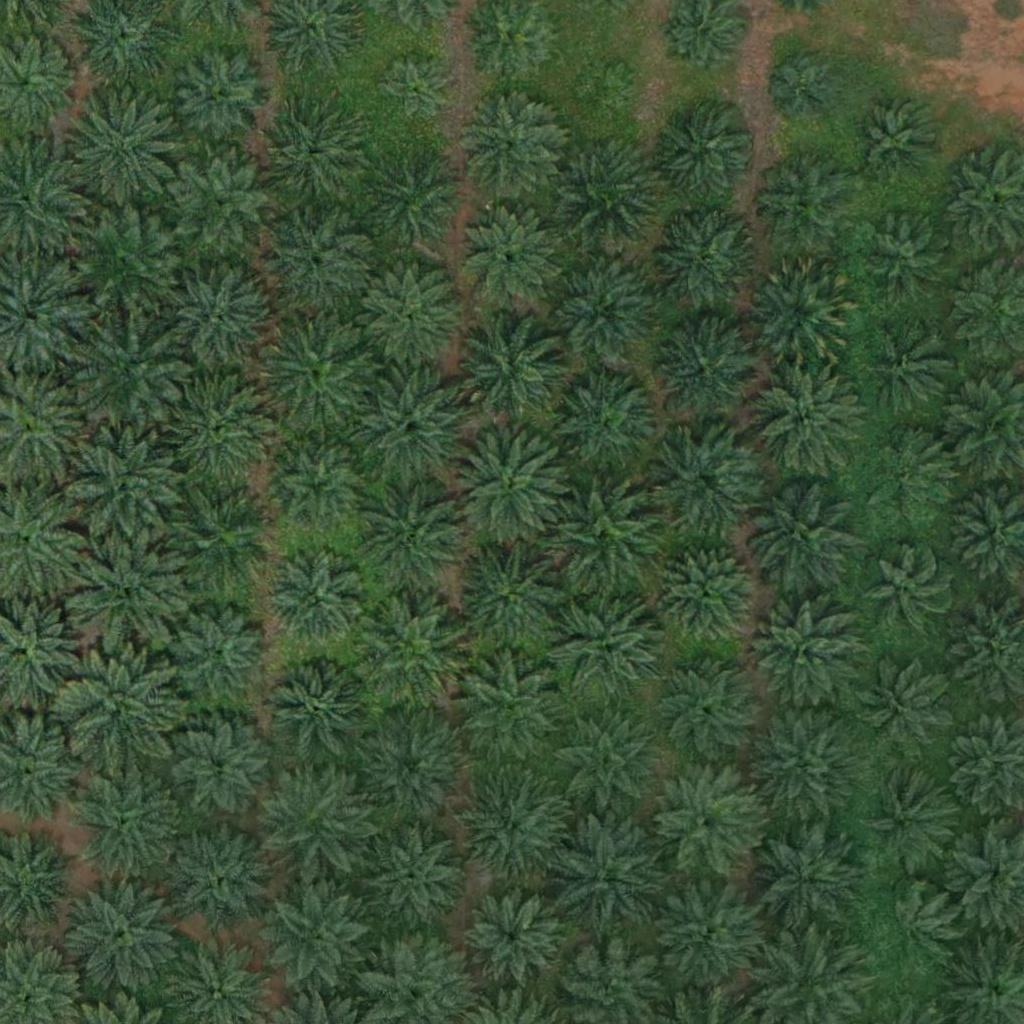Kelapa_Sawit: (65, 201, 178, 315), (72, 311, 185, 425), (357, 477, 470, 591), (455, 653, 568, 767), (650, 879, 763, 993), (548, 708, 661, 822), (550, 818, 663, 932), (458, 773, 571, 887), (744, 257, 857, 370), (647, 98, 760, 211), (67, 431, 180, 544), (69, 537, 182, 650), (63, 652, 176, 765), (261, 310, 374, 423), (358, 370, 471, 483), (452, 431, 565, 544), (454, 540, 567, 653), (748, 361, 861, 474), (743, 478, 856, 591), (747, 600, 860, 713), (262, 883, 375, 996), (160, 262, 272, 376), (168, 370, 280, 484), (358, 602, 470, 716), (648, 206, 760, 319), (549, 135, 661, 248), (547, 257, 659, 370), (259, 207, 371, 320), (67, 87, 179, 200), (165, 485, 277, 598), (354, 711, 466, 824), (455, 311, 567, 424), (545, 364, 657, 477), (544, 480, 656, 593), (552, 594, 664, 707), (647, 427, 759, 540), (651, 651, 763, 764), (750, 708, 862, 821), (749, 823, 861, 936), (649, 766, 761, 879), (257, 765, 369, 878), (69, 769, 181, 882), (66, 880, 178, 993), (752, 154, 852, 255), (457, 93, 557, 194), (457, 204, 557, 305), (364, 149, 464, 250), (362, 265, 462, 366), (259, 105, 359, 206), (172, 49, 272, 150), (172, 152, 272, 253), (169, 602, 269, 703), (171, 721, 271, 822), (271, 663, 371, 764), (653, 319, 753, 420), (656, 542, 756, 643), (859, 769, 959, 870), (463, 887, 563, 988), (365, 828, 465, 929), (171, 825, 271, 926), (266, 550, 366, 650), (852, 98, 940, 186), (272, 447, 360, 535), (863, 328, 951, 416), (868, 886, 956, 974), (868, 218, 955, 306), (867, 432, 954, 520), (862, 546, 949, 634), (863, 662, 950, 750), (375, 55, 450, 130), (770, 56, 833, 119), (572, 59, 634, 122)
